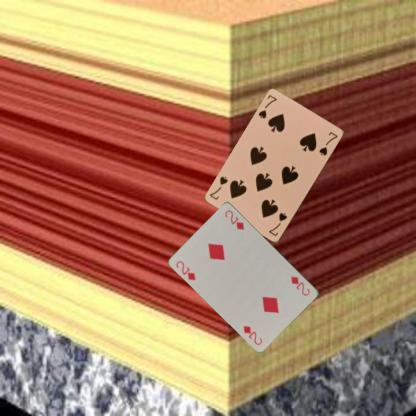2d: (288, 274, 312, 297), (174, 258, 197, 282)
7s: (255, 93, 278, 120), (266, 210, 288, 238)
